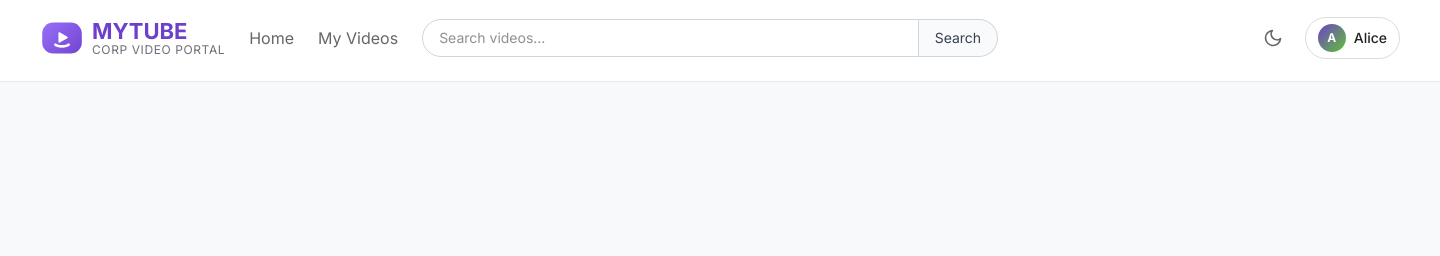
SiteHeader — authenticated › toggles menu closed when button clicked again
The width and height of the screenshot is (1440, 256).
Step 1. Click the button with aria-label "user menu" → (1352, 38), box [1305,16,1400,58]
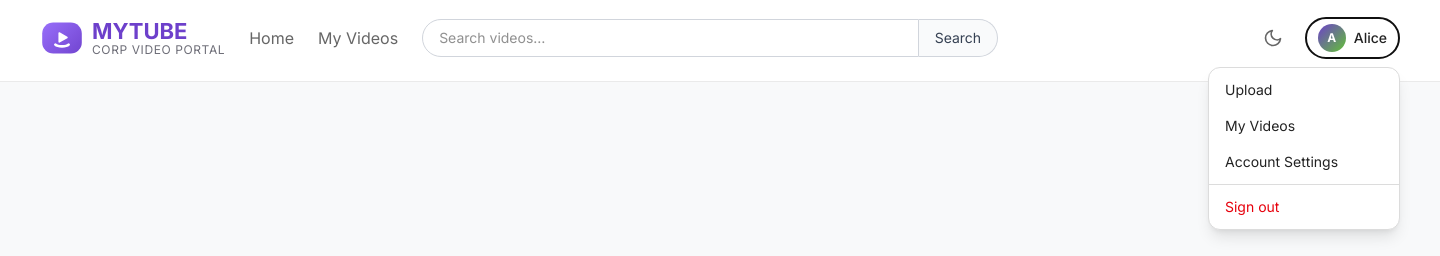
expect the menu is shown: met, box [1208,66,1400,230]
Step 2. Click the button with aria-label "user menu" → (1352, 38), box [1305,16,1400,58]
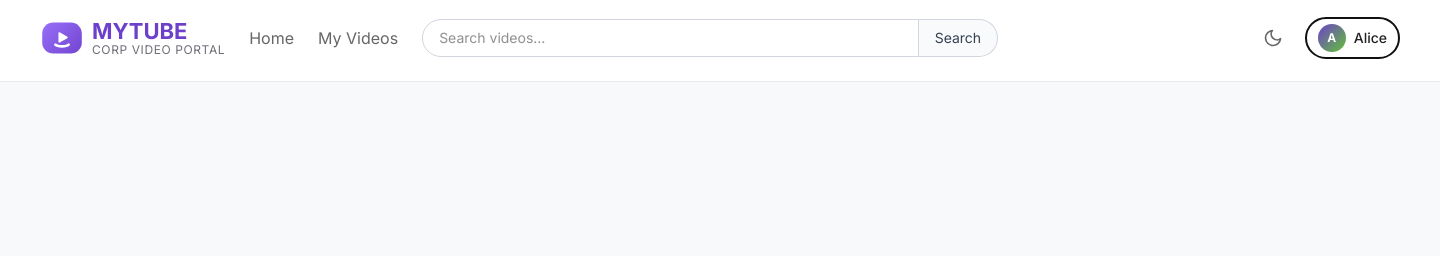
expect the menu is gone: met
